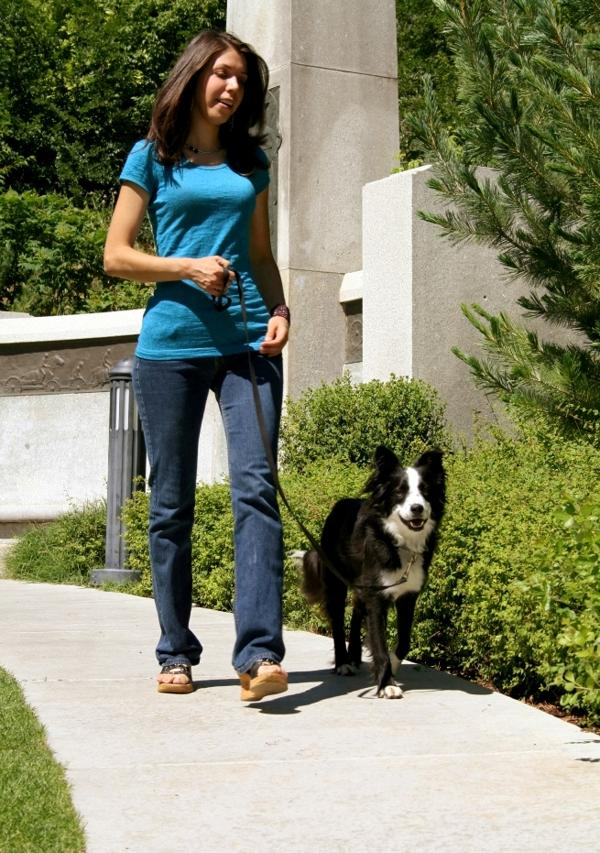person: (104, 33, 289, 702)
